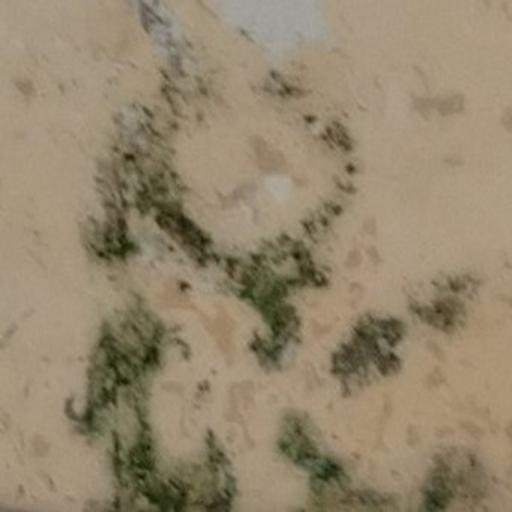algae: (80, 48, 482, 512)
